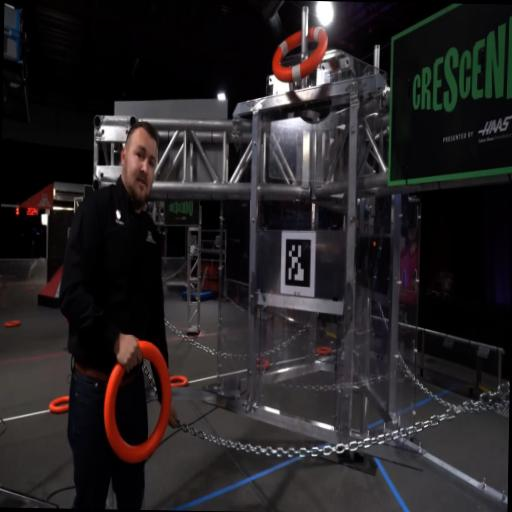robot: (180, 266, 215, 302)
